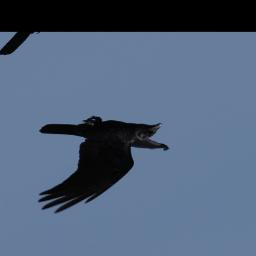Crow: (5, 87, 186, 220)
